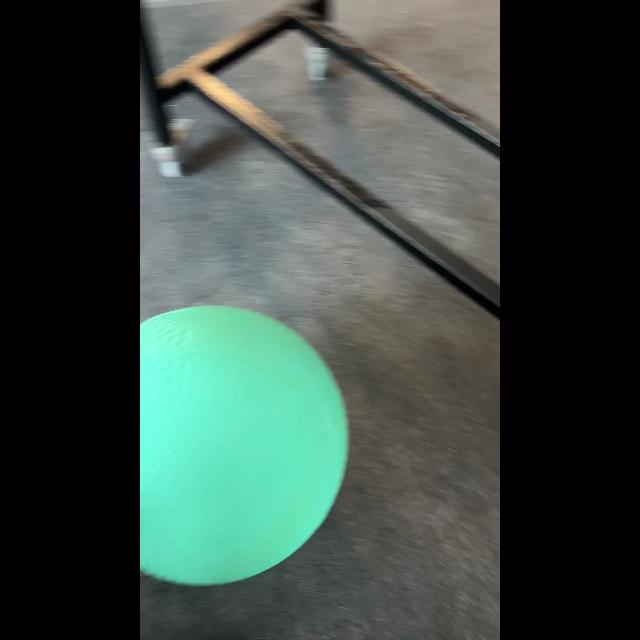ALGAE: (140, 304, 350, 586)
